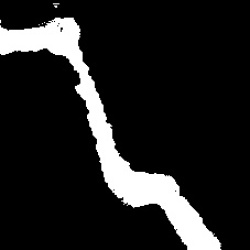crack: (1, 16, 222, 248)
